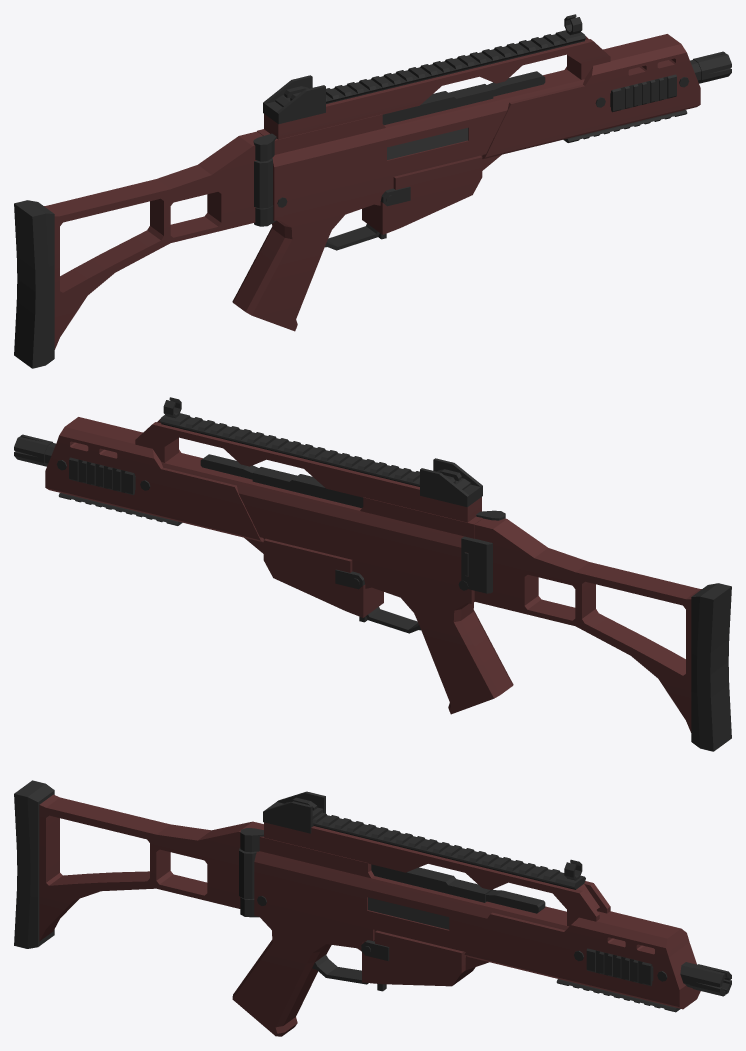
File: AssaultRifle3_06.fbx
3 renders of one model, top to bottom at view 1: azimuth 30°, elevation 25°; view 2: azimuth 150°, elevation 25°; view 3: azimuth 330°, elevation 25°, orthographic.
Visible parts, largest first — view 1: AssaultRifle3_06; view 2: AssaultRifle3_06; view 3: AssaultRifle3_06.
Boxes of the visible parts, x1,y1,x2,y2 form: AssaultRifle3_06: [14, 14, 731, 368]; AssaultRifle3_06: [14, 397, 731, 751]; AssaultRifle3_06: [14, 780, 731, 1036].
Size of the model in its own units: 0.8153 by 0.2655 by 0.0529.
